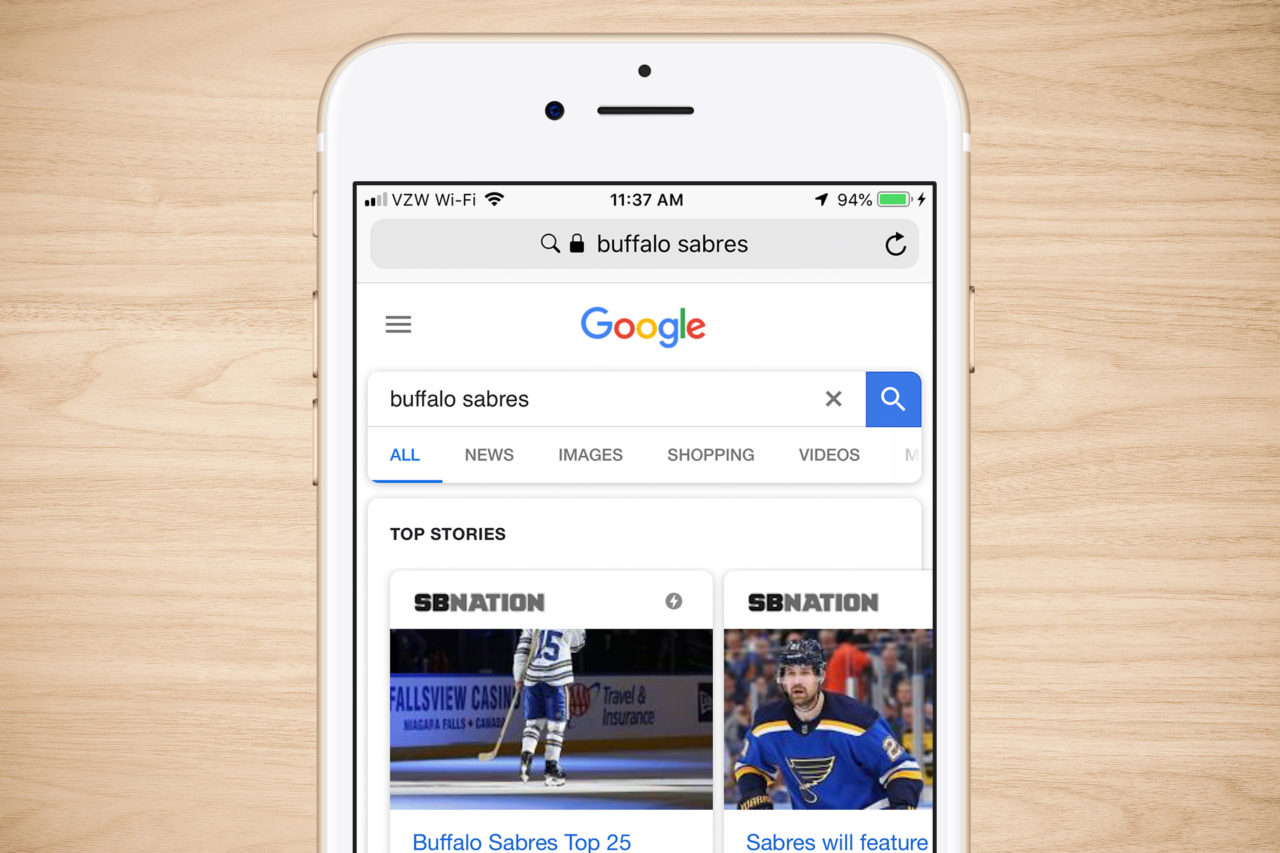Cell Phone: (312, 30, 976, 853)
